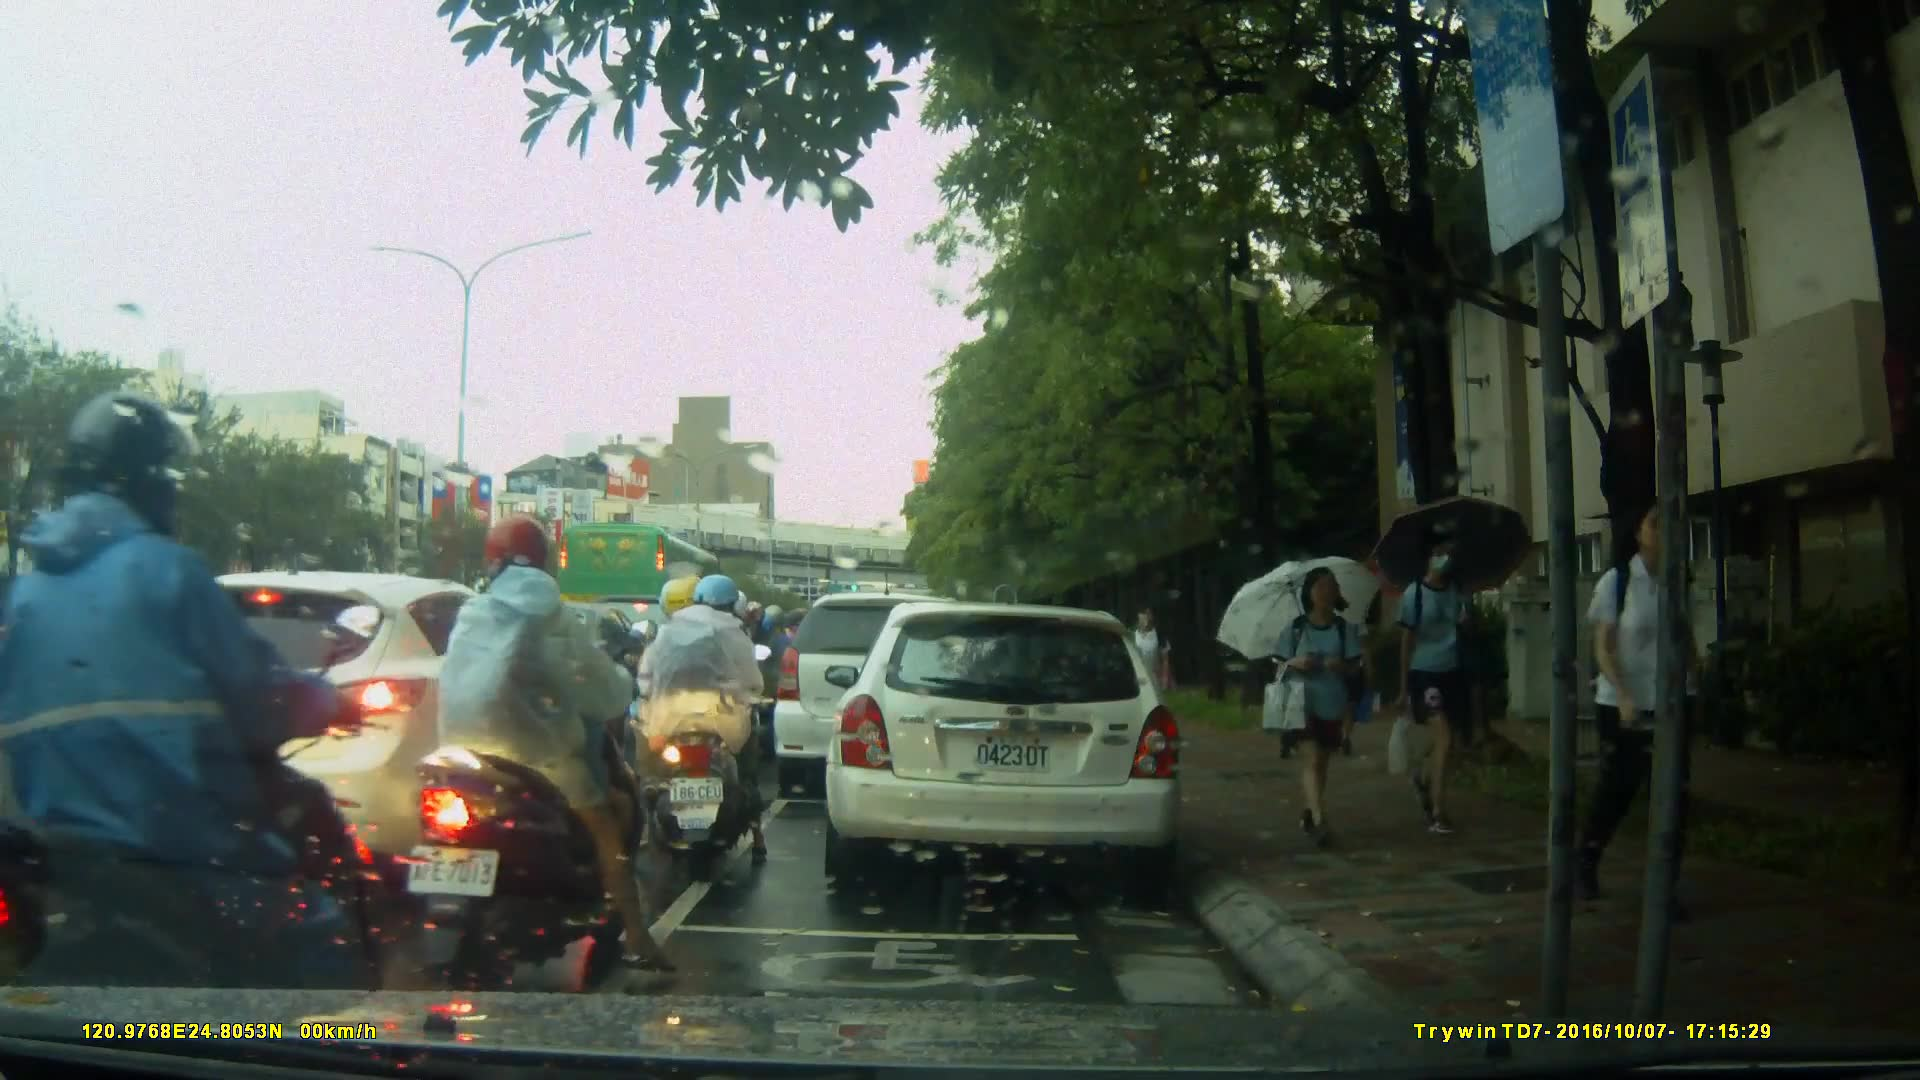pedestrian: (1579, 482, 1713, 920), (1375, 530, 1501, 844), (1267, 556, 1382, 859), (1269, 571, 1320, 770), (1126, 598, 1175, 754)
rider: (4, 375, 404, 1066), (405, 512, 684, 985), (619, 580, 775, 872), (663, 589, 762, 806)
vehicle: (98, 569, 594, 883), (822, 604, 1187, 883), (774, 595, 995, 802), (558, 520, 741, 665), (20, 576, 199, 697)
